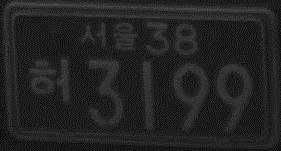1: (138, 59, 159, 134)
3: (85, 57, 125, 132), (143, 19, 169, 57)
8: (172, 21, 199, 57)
9: (214, 63, 256, 137), (172, 62, 211, 133)
서울_O: (79, 20, 138, 53)
허: (27, 59, 73, 107)
